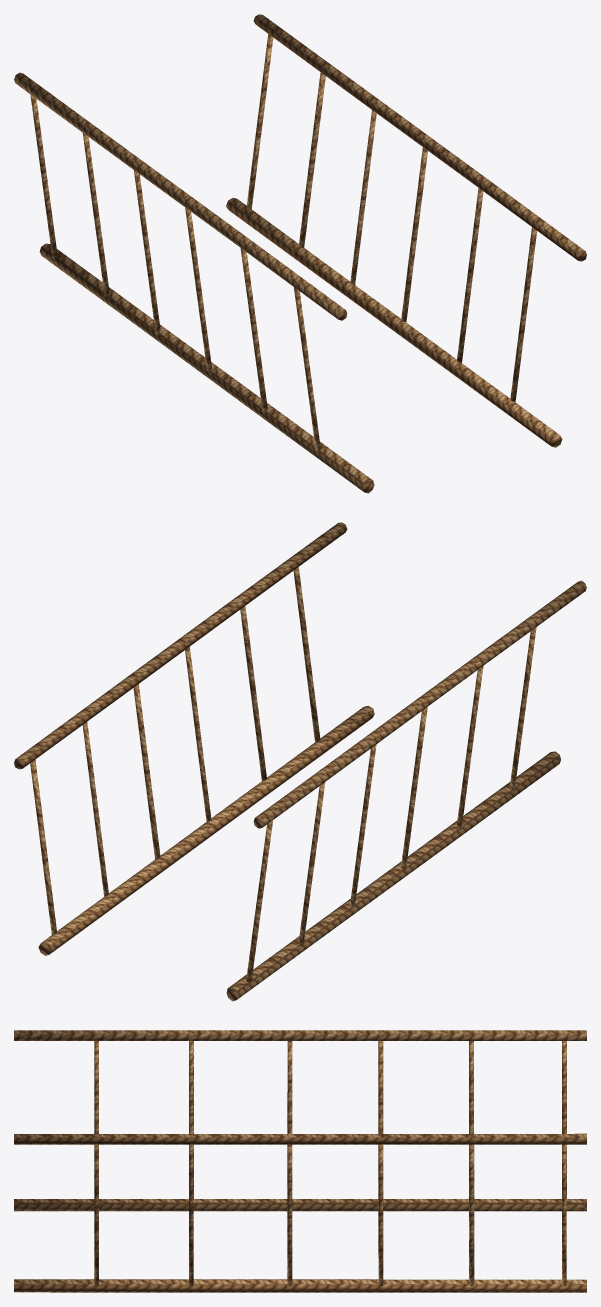
Rendered from bridge_ropes_3m.glb.
The picture shows the model from 3 angles, top to bottom: view 1: azimuth 30°, elevation 25°; view 2: azimuth 150°, elevation 25°; view 3: azimuth 270°, elevation 25°; orthographic projection. The views are drawn at different scales.
Parts seen in each view (by area): view 1: model; view 2: model; view 3: model.
Boxes of the visible parts, x1,y1,x2,y2 form: model: (14,14,586,493); model: (14,522,586,1001); model: (14,1030,586,1292).
Size of the model in its own units: 1.34 by 0.977 by 2.99.
Materials: 3 (3 with a texture image).
